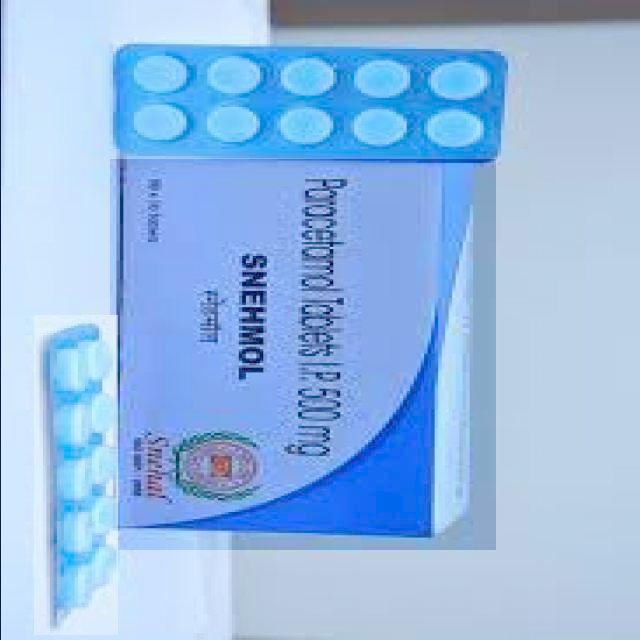authentic: (109, 159, 495, 550), (103, 36, 522, 166), (33, 315, 117, 635)
